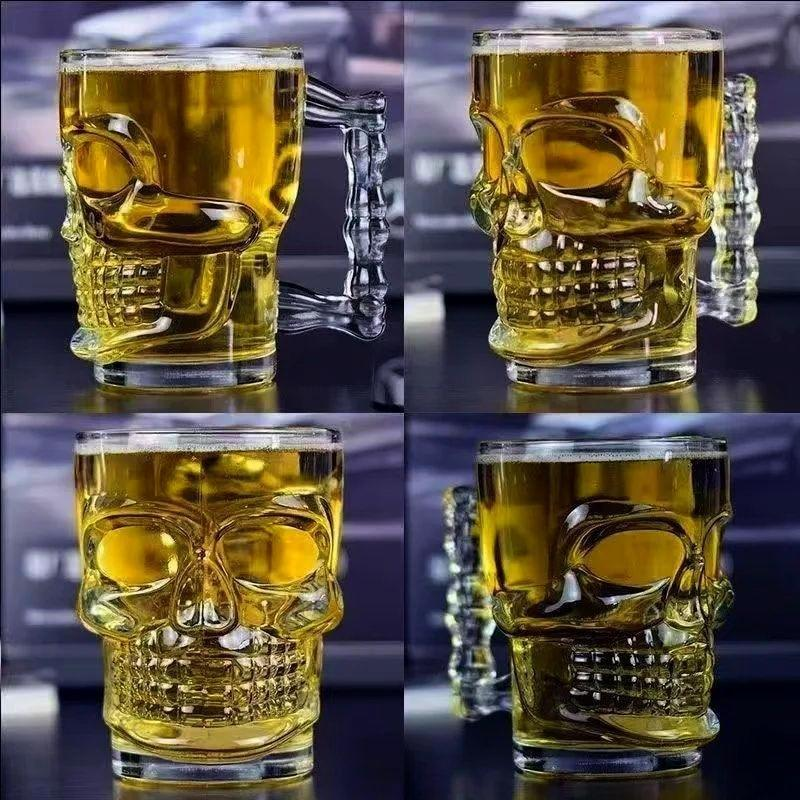glass-mug: (47, 36, 396, 396), (461, 15, 775, 400), (66, 420, 355, 794), (439, 434, 744, 786)
